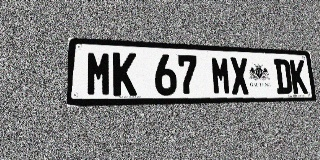6: (154, 54, 177, 96)
7: (176, 55, 199, 95)
D: (274, 59, 293, 94)
K: (113, 52, 137, 96), (289, 59, 308, 94)
M: (86, 51, 112, 96), (210, 56, 231, 95)
X: (229, 57, 250, 95)
